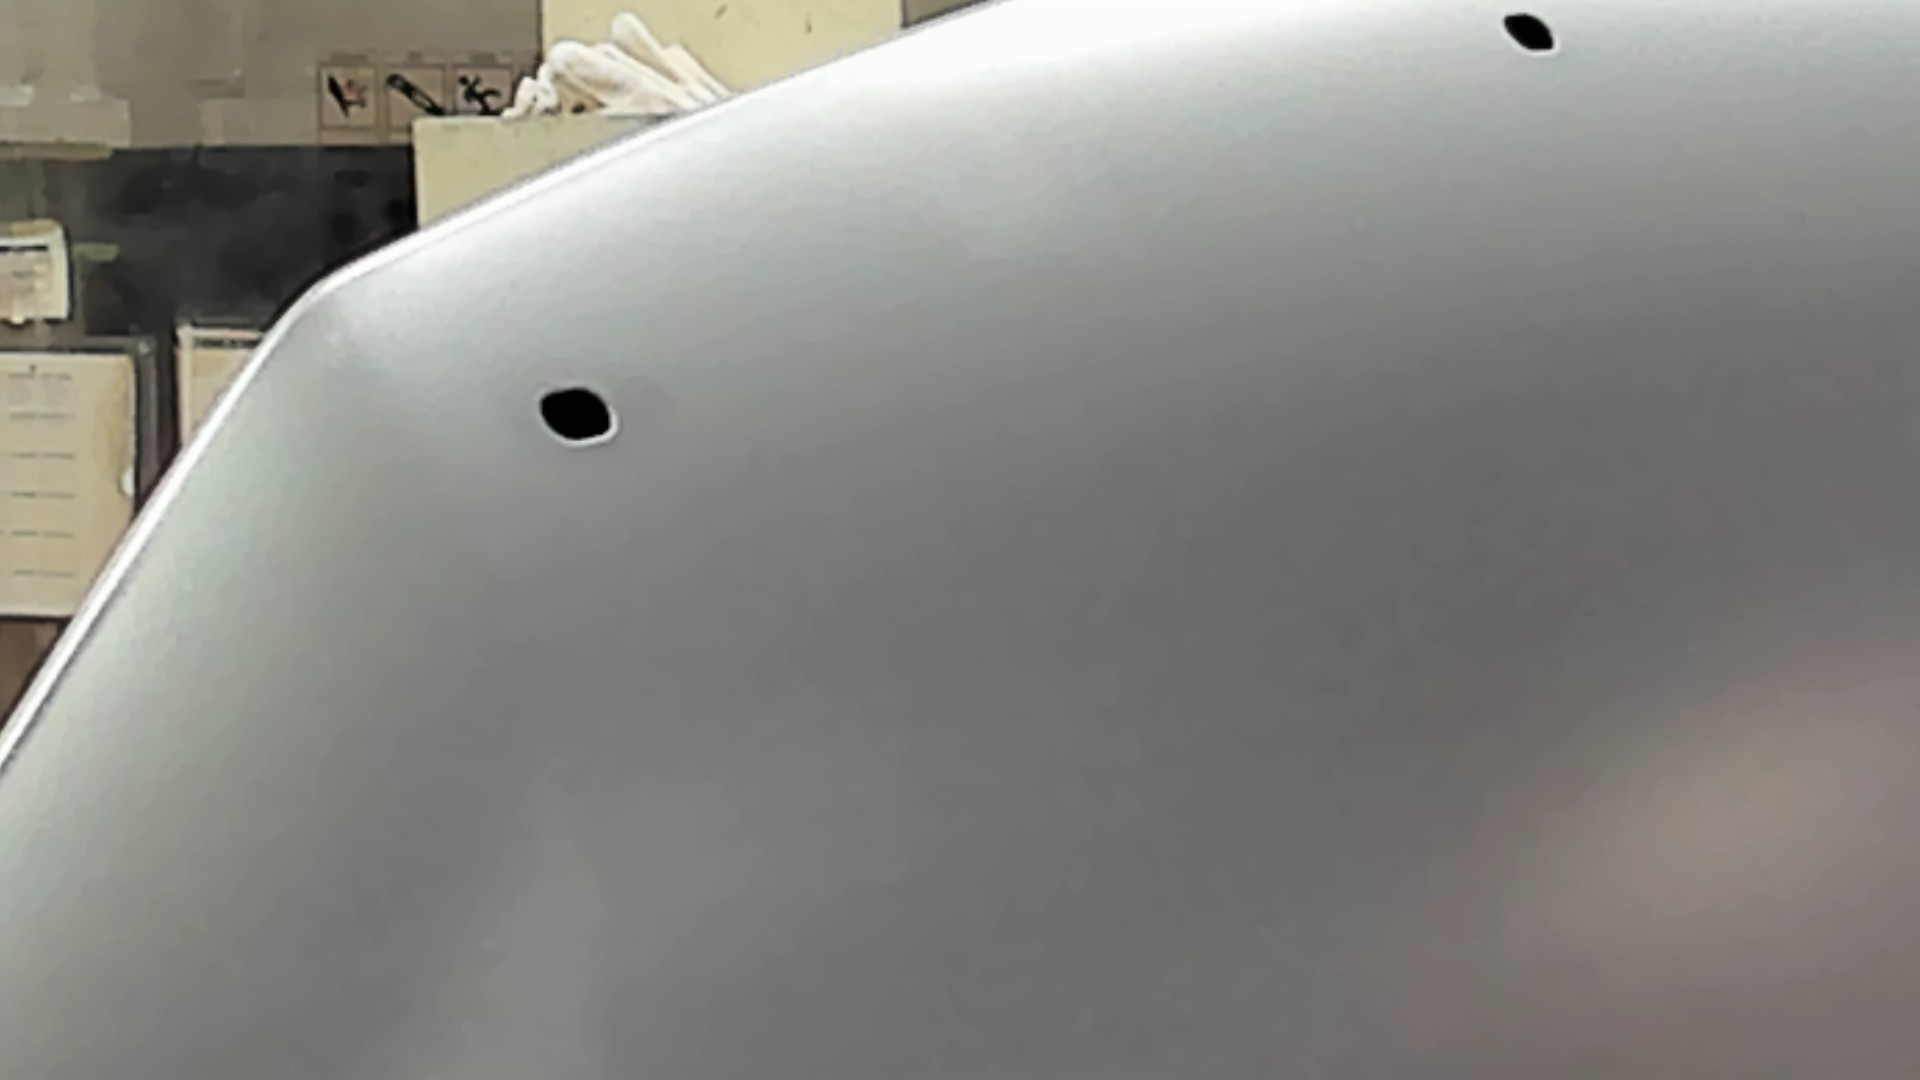amorfo: (524, 371, 634, 456), (1486, 1, 1569, 69)
capo: (757, 135, 1920, 1080)
